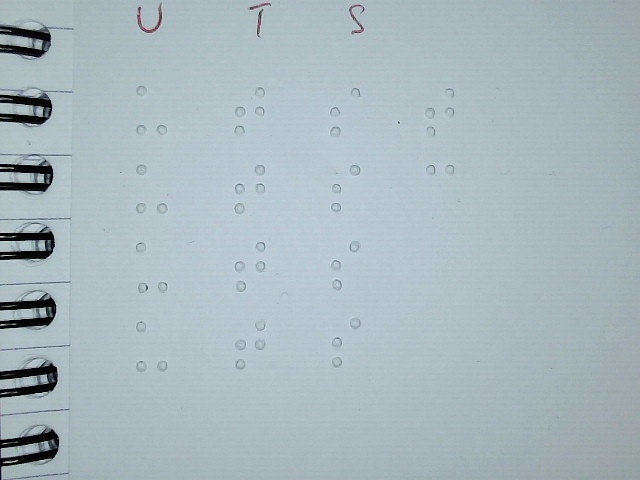S: (328, 84, 363, 138), (328, 161, 363, 215), (328, 238, 363, 292), (329, 314, 364, 368)
T: (232, 84, 267, 138), (233, 161, 268, 215), (232, 239, 267, 293), (233, 317, 268, 371)
U: (134, 83, 169, 137), (135, 161, 170, 215), (134, 240, 169, 294), (135, 319, 170, 373)
